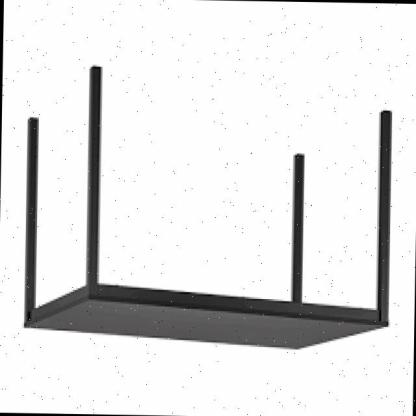Table: (8, 60, 402, 360)
